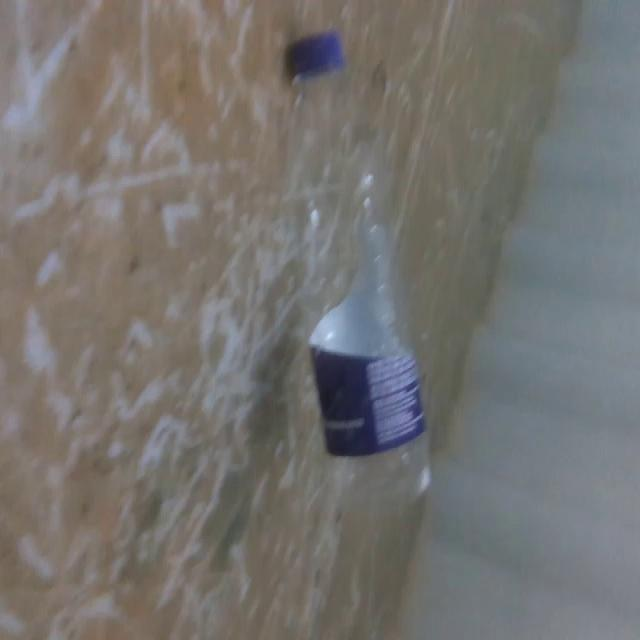plastic bottle: (276, 30, 436, 520)
